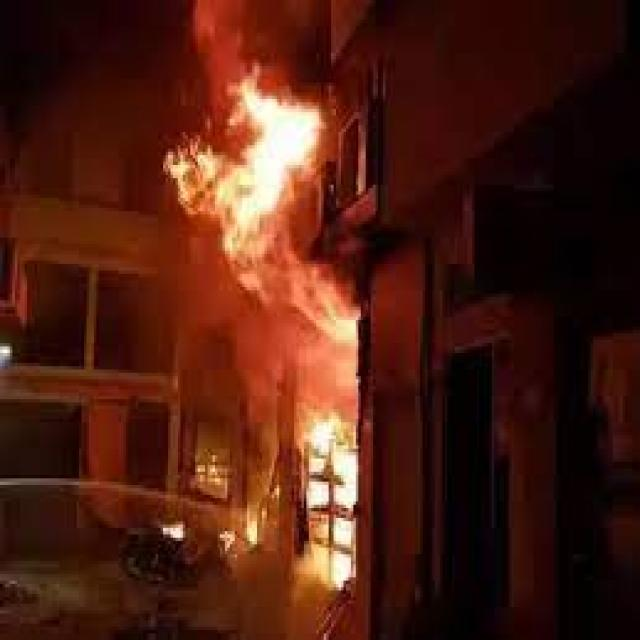smoke: (156, 82, 363, 346)
